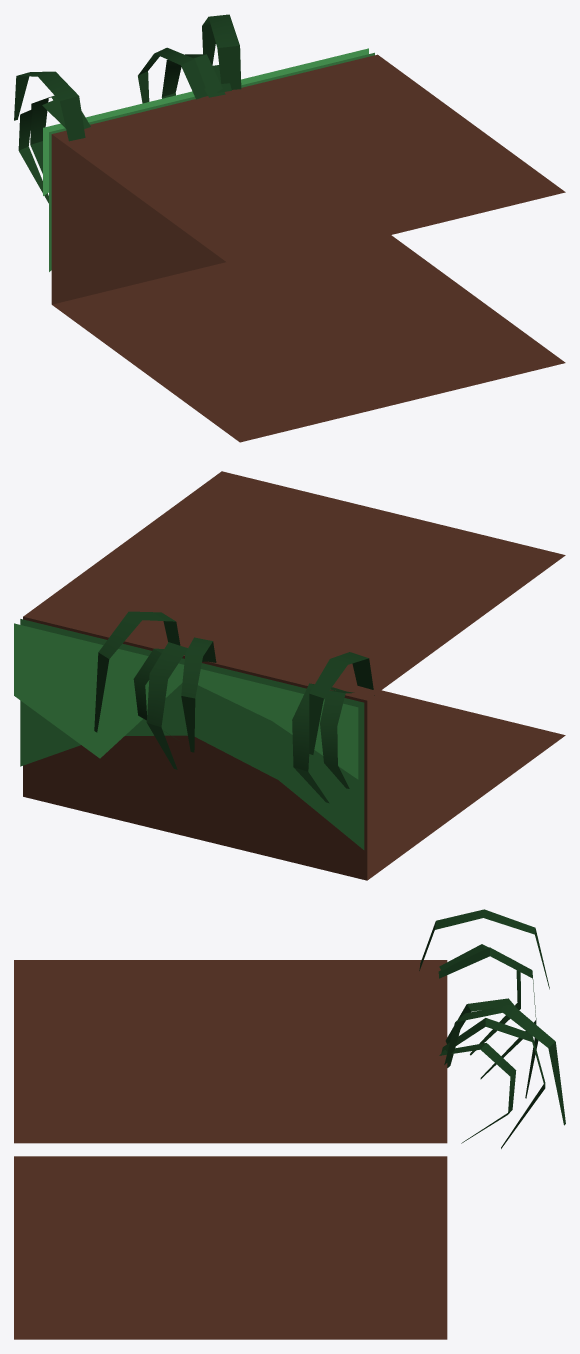
File: Tile_Earth_Half_Middle_001.fbx
3 views of the same model, one above another, from view 1: azimuth 30°, elevation 25°; view 2: azimuth 150°, elevation 25°; view 3: azimuth 270°, elevation 25° (orthographic). The views are drawn at different scales.
Visible parts, largest first — view 1: Environment_Earth_Half; view 2: Environment_Earth_Half; view 3: Environment_Earth_Half.
Part boxes in pixels (x1,y1,x2,y2): Environment_Earth_Half: (14, 14, 565, 442); Environment_Earth_Half: (14, 471, 565, 880); Environment_Earth_Half: (14, 909, 565, 1339).
Size of the model in its own units: 101 by 65.47 by 127.
